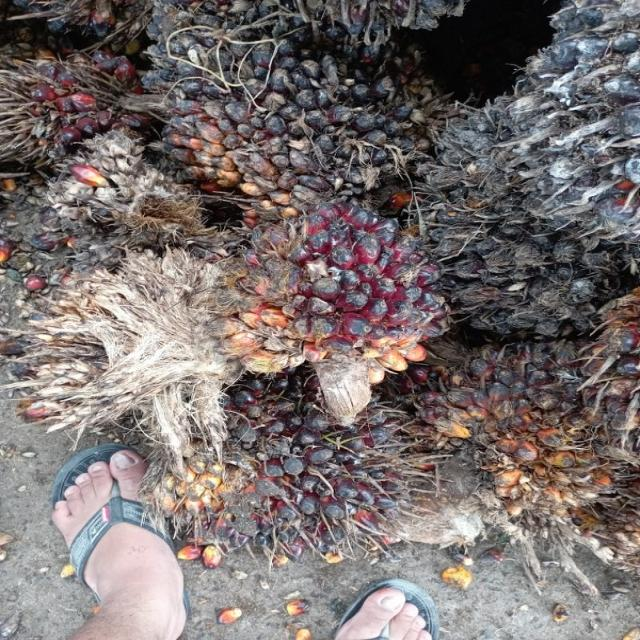fraksi 00: (128, 0, 421, 219), (415, 95, 617, 335), (162, 377, 418, 554)
fraksi 1: (212, 196, 452, 391)
